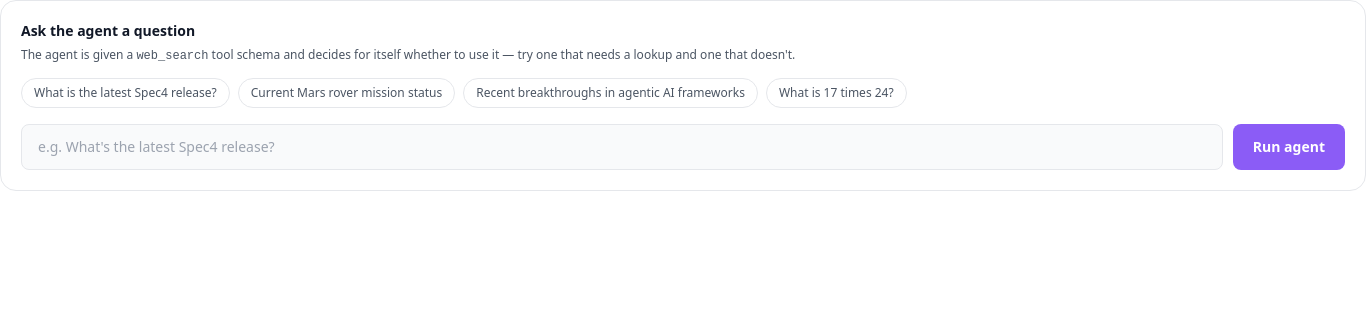
ToolUseApp › renders the clear unavailable message when the agent reports a mocked failure
The image size is (1366, 325).
Type "What is the latest Spec4 release?" into the field with placeholder "e.g. What's the latest Spec4 release?" at (622, 147), box [21,124,1223,170]
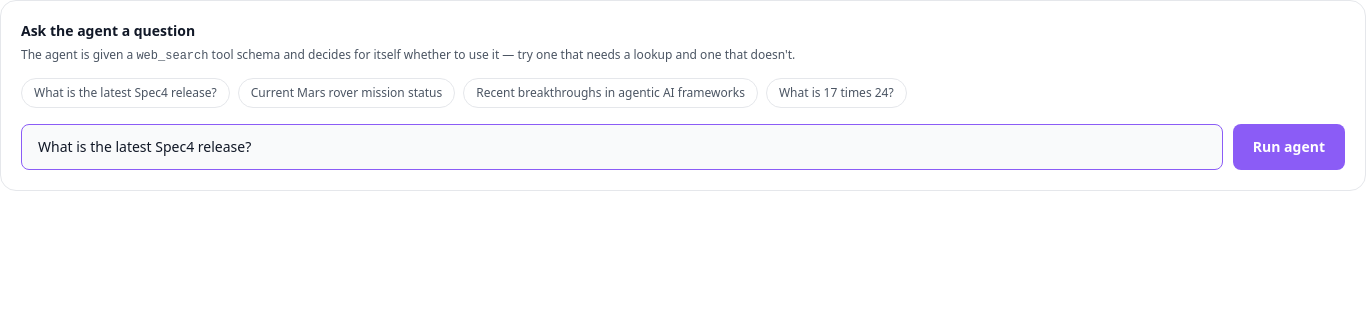
Click the button "Run agent" at (1289, 147), box [1233,124,1345,170]
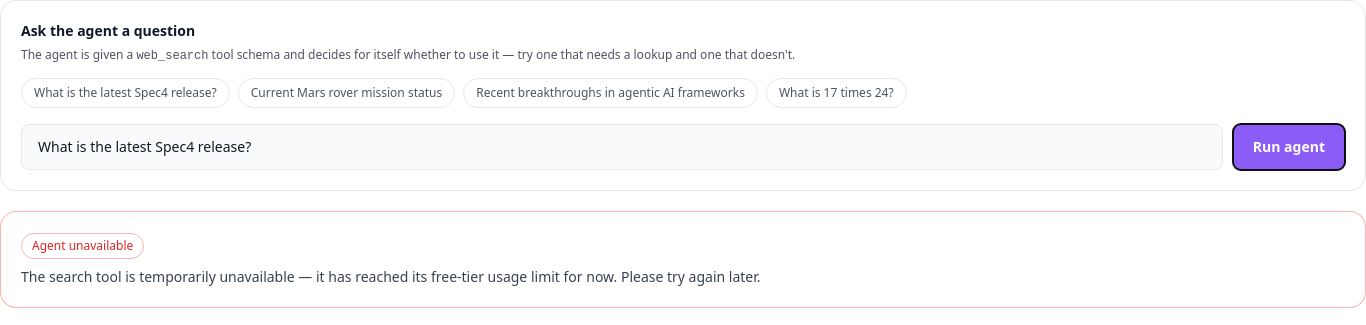
Check: the text "temporarily unavailable" is shown, box [21,267,760,286]
Check: the text "Agent unavailable" is shown, box [21,233,144,259]
